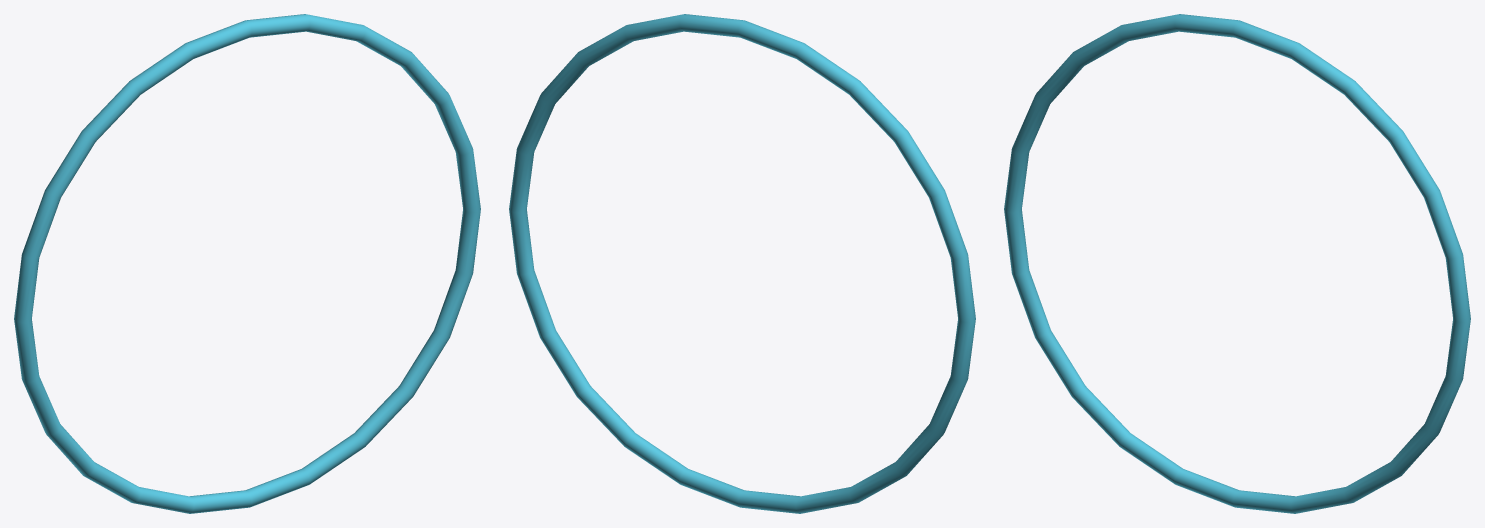
Rendered from ring_temp 1.obj.
3 renders of one model, left to right at view 1: azimuth 30°, elevation 25°; view 2: azimuth 150°, elevation 25°; view 3: azimuth 330°, elevation 25°, orthographic.
Parts seen in each view (by area): view 1: Torus001; view 2: Torus001; view 3: Torus001.
Boxes of the visible parts, box(x1,y1,x2,y2) form: Torus001: box(14, 14, 480, 513); Torus001: box(509, 14, 975, 513); Torus001: box(1004, 14, 1470, 513).
Bounding box in the file's own units: 6.93 × 6.93 × 0.2308.
